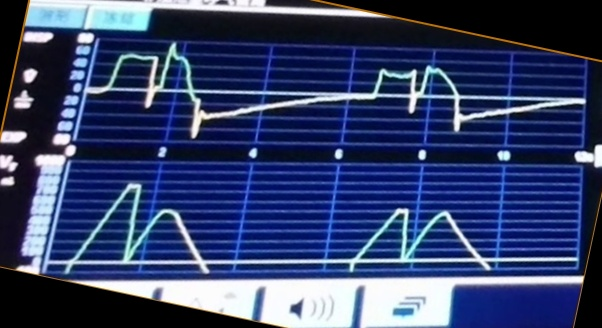Double_Triggering Flow: (91, 40, 513, 141)
Double_Triggering Volume: (59, 182, 513, 272)
